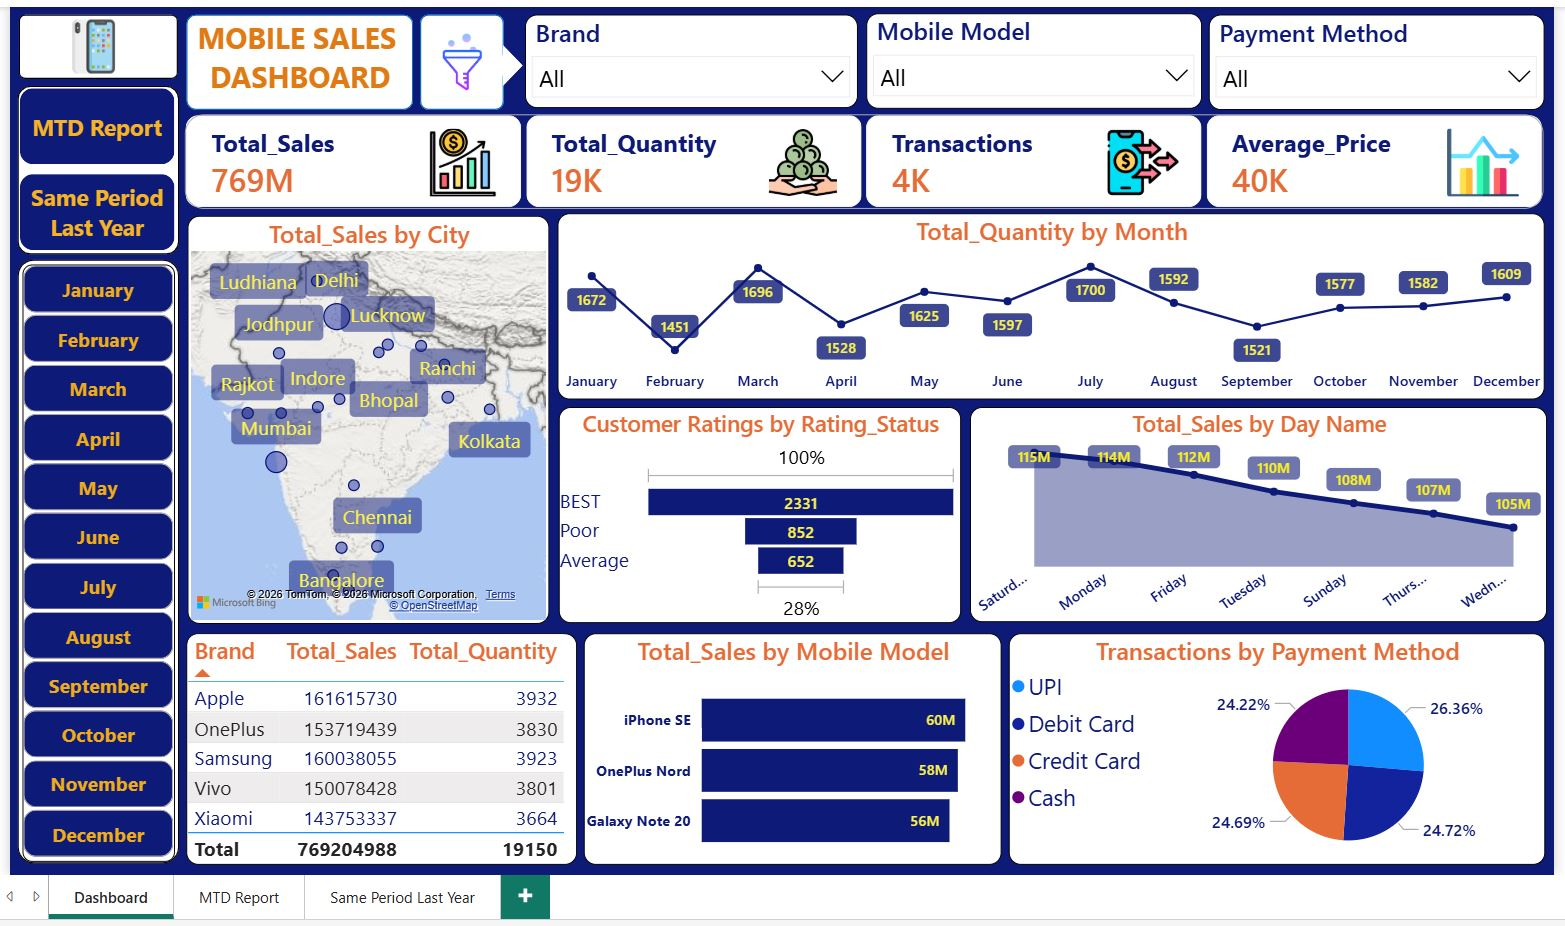

The page's visual inventory and layout, read from the dashboard file:
{"tool":"powerbi","page":{"name":"Dashboard","canvas":[1280,720],"ordinal":0},"visuals":[{"type":"shape","box":[7.2,5.8,132,53.4],"z":0},{"type":"image","box":[14.4,10.1,109.6,44.7],"z":1000},{"type":"shape","box":[5.8,64.9,134,139.9],"z":2000},{"type":"shape","box":[5.8,209.2,134,500.6],"z":3000},{"type":"advancedSlicerVisual","fields":{"Values":["Custom_Calender.Date.Variation.Date Hierarchy.Month"]},"box":[10.1,213.5,126,495],"z":4000},{"type":"cardVisual","fields":{"Data":["Sales_Data.Total_Sales","Sales_Data.Total_Quantity","Sales_Data.Transactions","Sales_Data.Average_Price"]},"box":[141.4,85.1,1135.5,86.6],"z":5000},{"type":"shape","box":[146.2,6,188.2,79.1],"z":6000},{"type":"textbox","box":[155.8,9.6,170.2,69.5],"z":7000},{"type":"shape","box":[340.4,6,69.5,79.1],"z":8000},{"type":"shape","box":[391.9,31.2,33.6,34.8],"z":9000},{"type":"image","box":[346.4,13.2,57.5,63.5],"z":10000},{"type":"slicer","fields":{"Values":["Sales_Data.Brand"]},"box":[426.7,6,275.7,77.9],"z":11000},{"type":"slicer","fields":{"Values":["Sales_Data.Mobile Model"]},"box":[709.5,4.8,278.1,79.1],"z":12000},{"type":"slicer","fields":{"Values":["Sales_Data.Payment Method"]},"box":[993.6,6,278.1,79.1],"z":13000},{"type":"map","fields":{"Category":["Sales_Data.City"],"Size":["Sales_Data.Total_Sales"]},"box":[147.4,172.6,300,338],"z":14000},{"type":"lineChart","fields":{"Category":["Custom_Calender.Date.Variation.Date Hierarchy.Month","Custom_Calender.Date.Variation.Date Hierarchy.Day"],"Y":["Sales_Data.Total_Quantity"]},"box":[454.2,171.4,818.6,154],"z":15000},{"type":"funnel","title":"Customer Ratings by Rating_Status","fields":{"Y":["CountNonNull(Sales_Data.Customer Ratings)"],"Category":["Sales_Data.Rating_Status"]},"box":[454.5,331.8,333.3,178.9],"z":16000},{"type":"pieChart","fields":{"Y":["Sales_Data.Transactions"],"Category":["Sales_Data.Payment Method"]},"box":[828.2,519,444.6,191.8],"z":17000},{"type":"clusteredBarChart","fields":{"Y":["Sales_Data.Total_Sales"],"Category":["Sales_Data.Mobile Model"]},"box":[475.8,519,346.4,191.8],"z":18000},{"type":"tableEx","fields":{"Values":["Sales_Data.Brand","Sales_Data.Total_Sales","Sales_Data.Total_Quantity"]},"box":[146.2,519,324,191.8],"z":19000},{"type":"areaChart","fields":{"Y":["Sales_Data.Total_Sales"],"Category":["Custom_Calender.Day Name"]},"box":[795.8,332,478.2,178.6],"z":20000},{"type":"pageNavigator","box":[8.4,67.1,128.2,135.4],"z":21000}]}

Visuals, with their boxes in screenshot pixels (x1, y1, x2, y2):
shape: Rect(13, 11, 172, 75)
image: Rect(21, 16, 154, 70)
shape: Rect(11, 82, 173, 251)
shape: Rect(11, 256, 173, 860)
advancedSlicerVisual - Custom_Calender.Date.Variation.Date Hierarchy.Month: Rect(16, 262, 168, 858)
cardVisual - Sales_Data.Total_Sales x Sales_Data.Total_Quantity: Rect(175, 107, 1544, 211)
shape: Rect(180, 11, 407, 107)
textbox: Rect(192, 16, 397, 99)
shape: Rect(415, 11, 498, 107)
shape: Rect(477, 42, 517, 84)
image: Rect(422, 20, 491, 97)
slicer - Sales_Data.Brand: Rect(519, 11, 851, 105)
slicer - Sales_Data.Mobile Model: Rect(860, 10, 1195, 105)
slicer - Sales_Data.Payment Method: Rect(1202, 11, 1537, 107)
map - Sales_Data.City x Sales_Data.Total_Sales: Rect(182, 212, 544, 620)
lineChart - Custom_Calender.Date.Variation.Date Hierarchy.Month x Custom_Calender.Date.Variation.Date Hierarchy.Day: Rect(552, 211, 1539, 396)
"Customer Ratings by Rating_Status" funnel: Rect(552, 404, 954, 620)
pieChart - Sales_Data.Transactions x Sales_Data.Payment Method: Rect(1003, 630, 1539, 861)
clusteredBarChart - Sales_Data.Total_Sales x Sales_Data.Mobile Model: Rect(578, 630, 995, 861)
tableEx - Sales_Data.Brand x Sales_Data.Total_Sales: Rect(180, 630, 571, 861)
areaChart - Sales_Data.Total_Sales x Custom_Calender.Day Name: Rect(964, 404, 1540, 620)
pageNavigator: Rect(14, 85, 169, 248)
